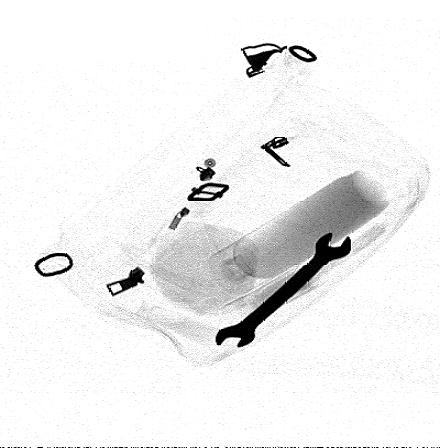Wrench: (214, 228, 353, 350)
